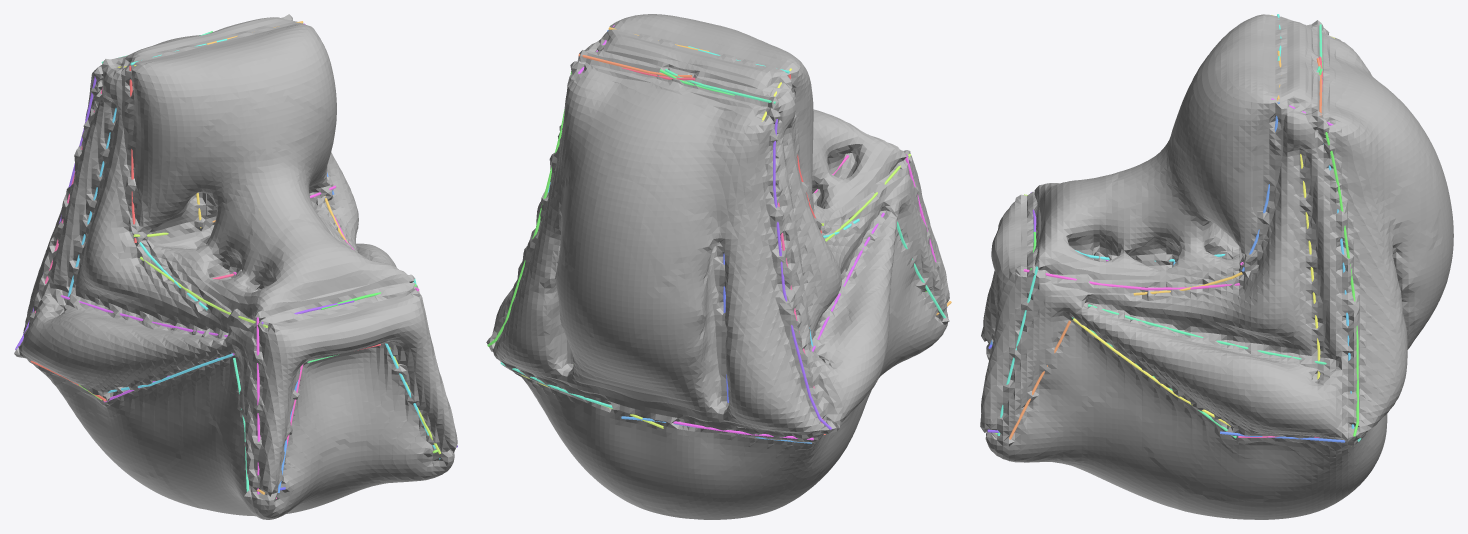
The model's file is author1_chair_ff.gltf.
3 renders of one model, left to right at view 1: azimuth 30°, elevation 25°; view 2: azimuth 150°, elevation 25°; view 3: azimuth 270°, elevation 25°, orthographic. The views are drawn at different scales.
Size of the model in its own units: 0.5958 by 0.7082 by 0.7104.
